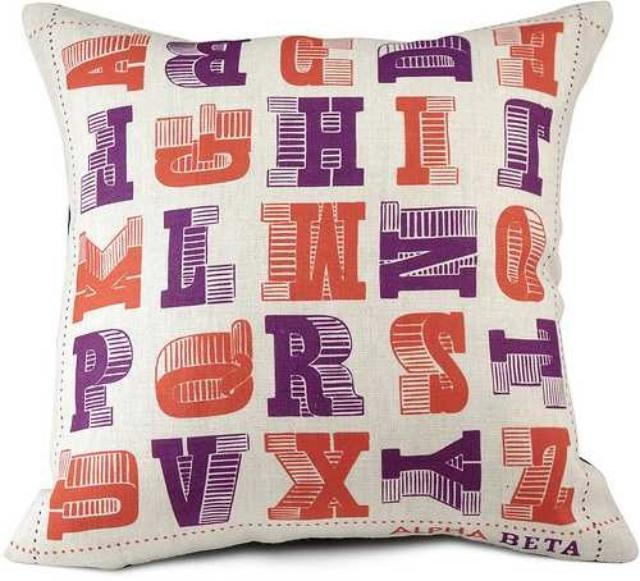pillow: (3, 0, 637, 570)
